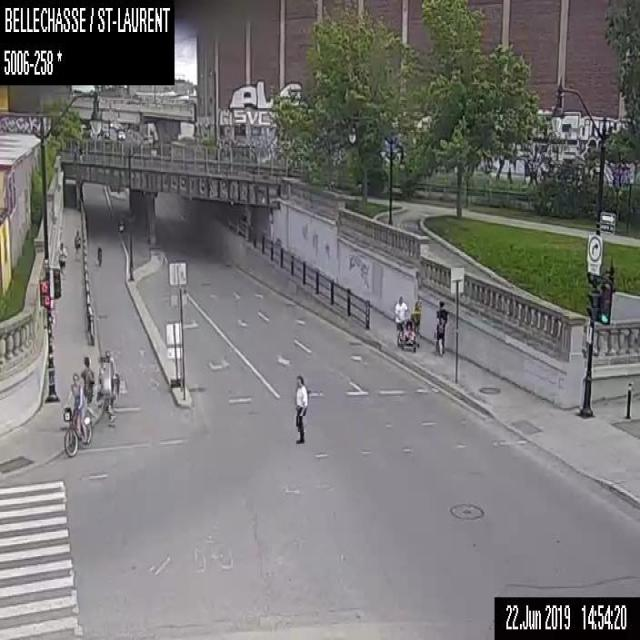cyclist: (62, 372, 94, 456), (96, 244, 102, 266)
pedestrian: (393, 294, 419, 350), (100, 348, 120, 397), (100, 362, 115, 427), (294, 374, 307, 442), (435, 298, 448, 354), (80, 355, 94, 404), (410, 298, 420, 336), (56, 241, 66, 275), (73, 228, 80, 253)
vehicle: (117, 130, 125, 138)
